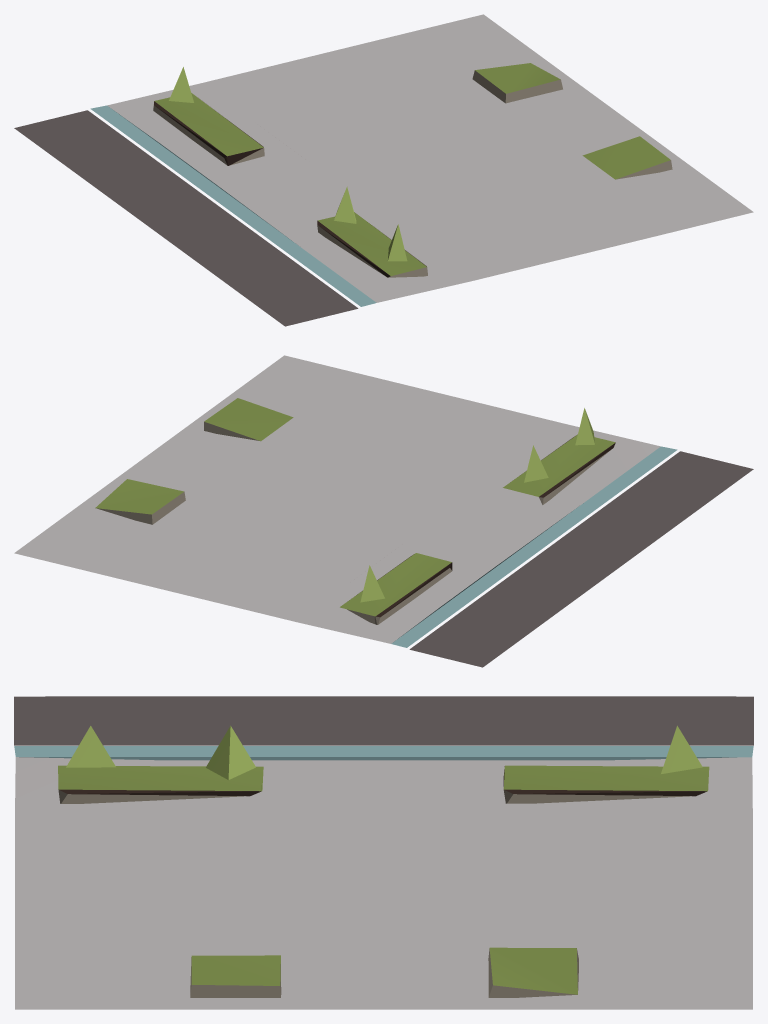
The model's file is QmascWSFeW4sPBiZ9SXoy19GtvZG9a66zf9nSJw3uxqxuw_lod2.fbx.
The picture shows the model from 3 angles, top to bottom: view 1: azimuth 30°, elevation 25°; view 2: azimuth 150°, elevation 25°; view 3: azimuth 270°, elevation 25°; orthographic projection. The views are drawn at different scales.
Parts seen in each view (by area): view 1: Entity_512; view 2: Entity_512; view 3: Entity_512.
Boxes of the visible parts, bbox=[...] form: Entity_512: bbox=[14, 14, 753, 326]; Entity_512: bbox=[14, 355, 753, 667]; Entity_512: bbox=[14, 696, 753, 1009].
Bounding box in the file's own units: 15907 × 1591 × 15921.
1 material, 1 textured.
